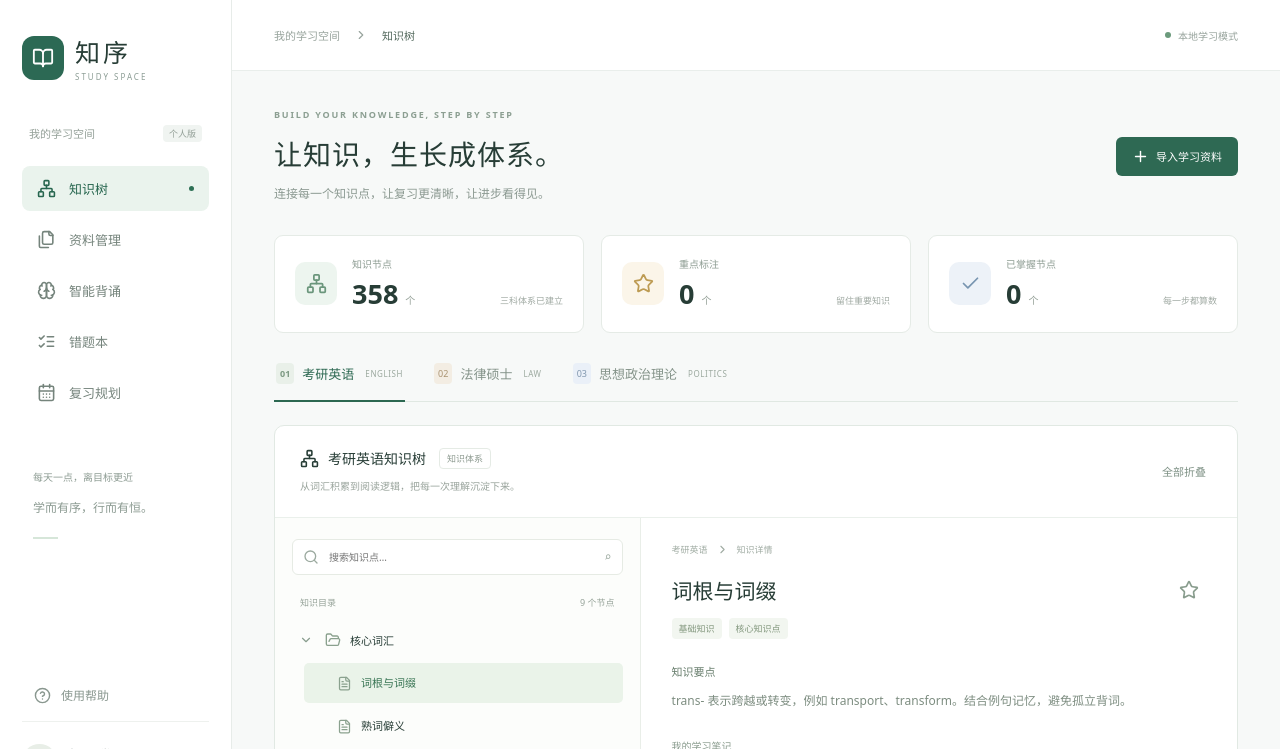
学习空间 › 背诵后更新掌握状态并生成复习路线
Click the button "智能背诵" at (116, 290), box [22, 268, 209, 313]
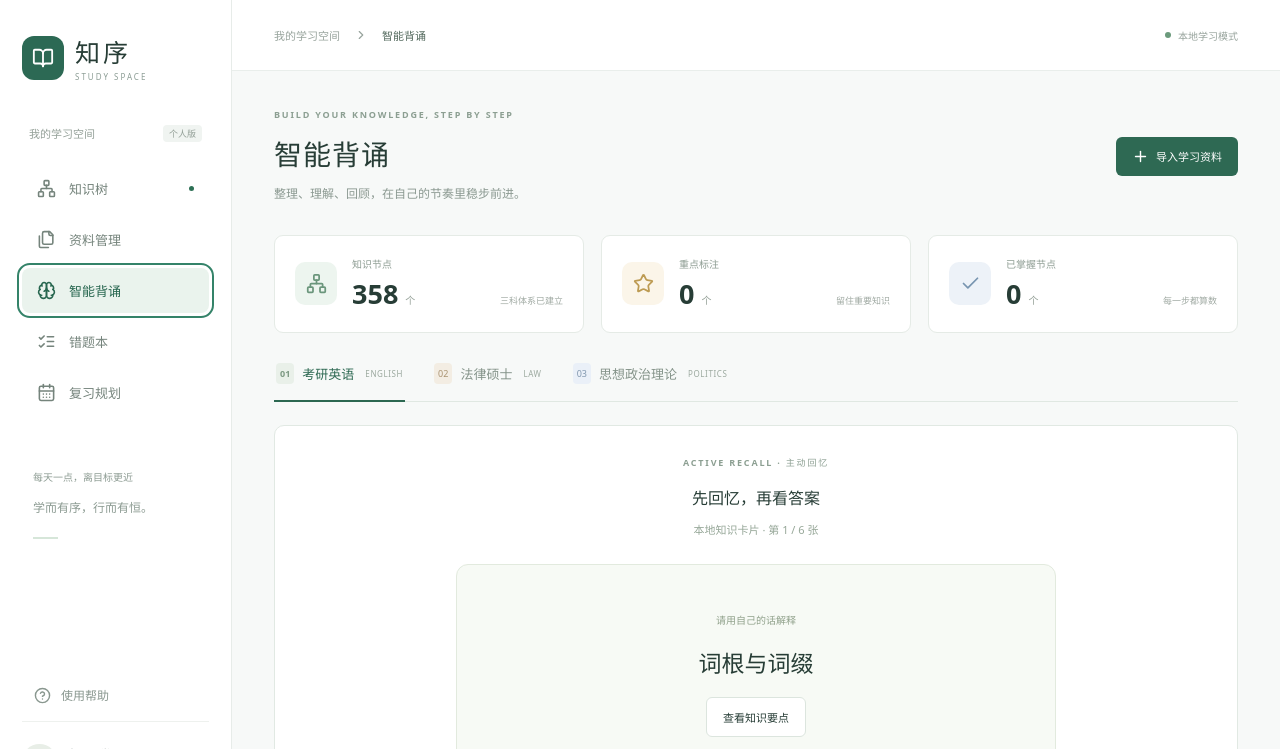
Click the button "查看知识要点" at (756, 717), box [706, 697, 806, 737]
(page scrolled)
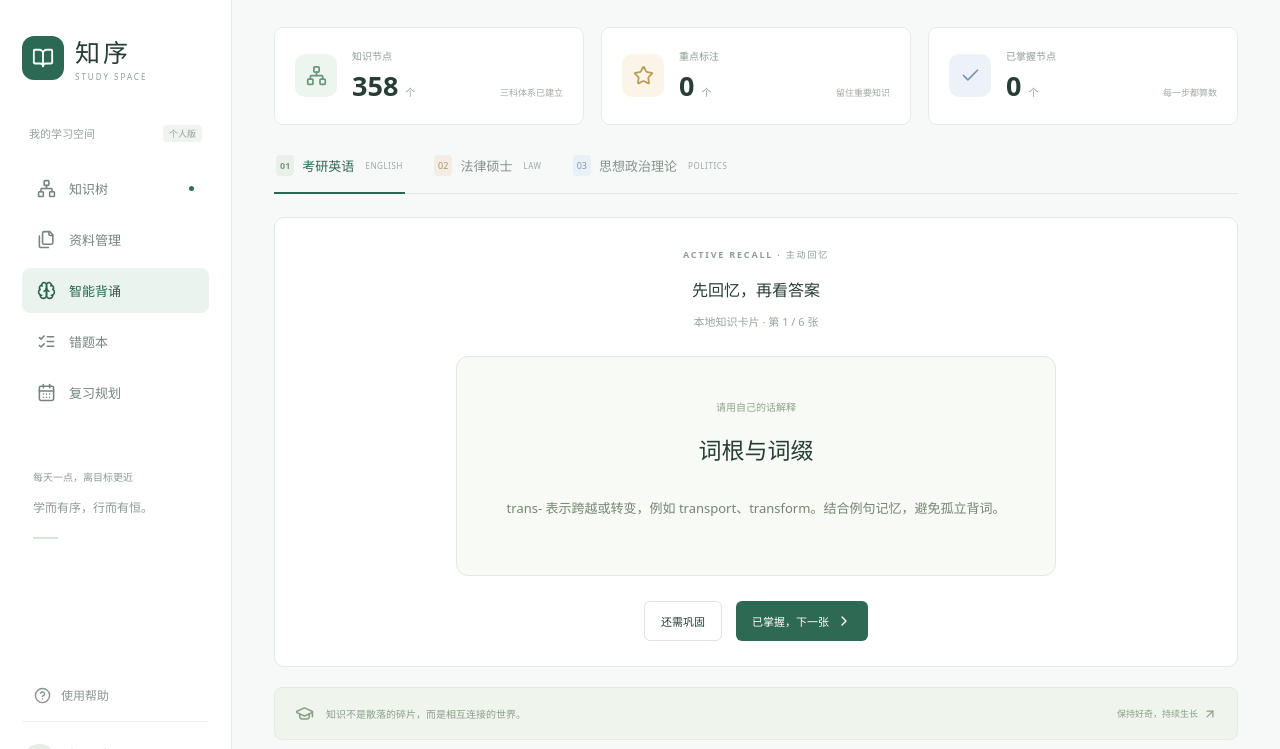
Click the button "已掌握，下一张" at (802, 621), box [736, 601, 868, 641]
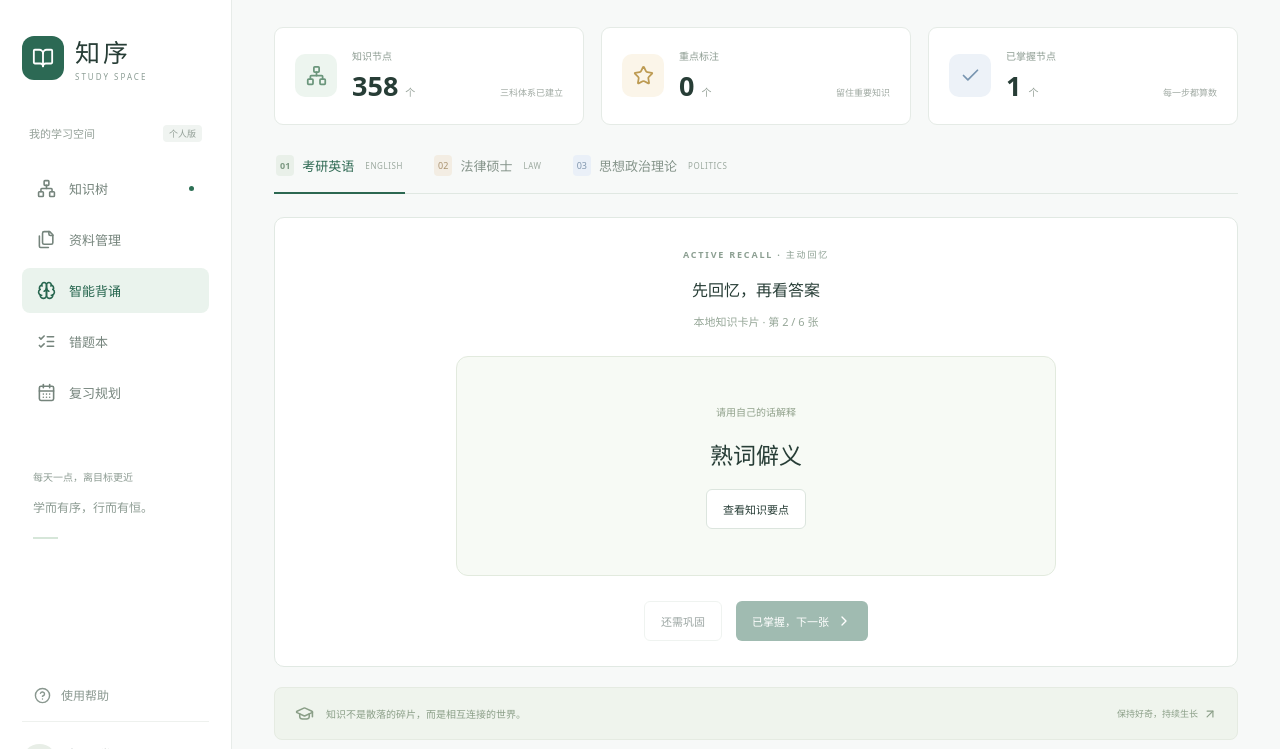
Click the button "复习规划" at (116, 392), box [22, 370, 209, 415]
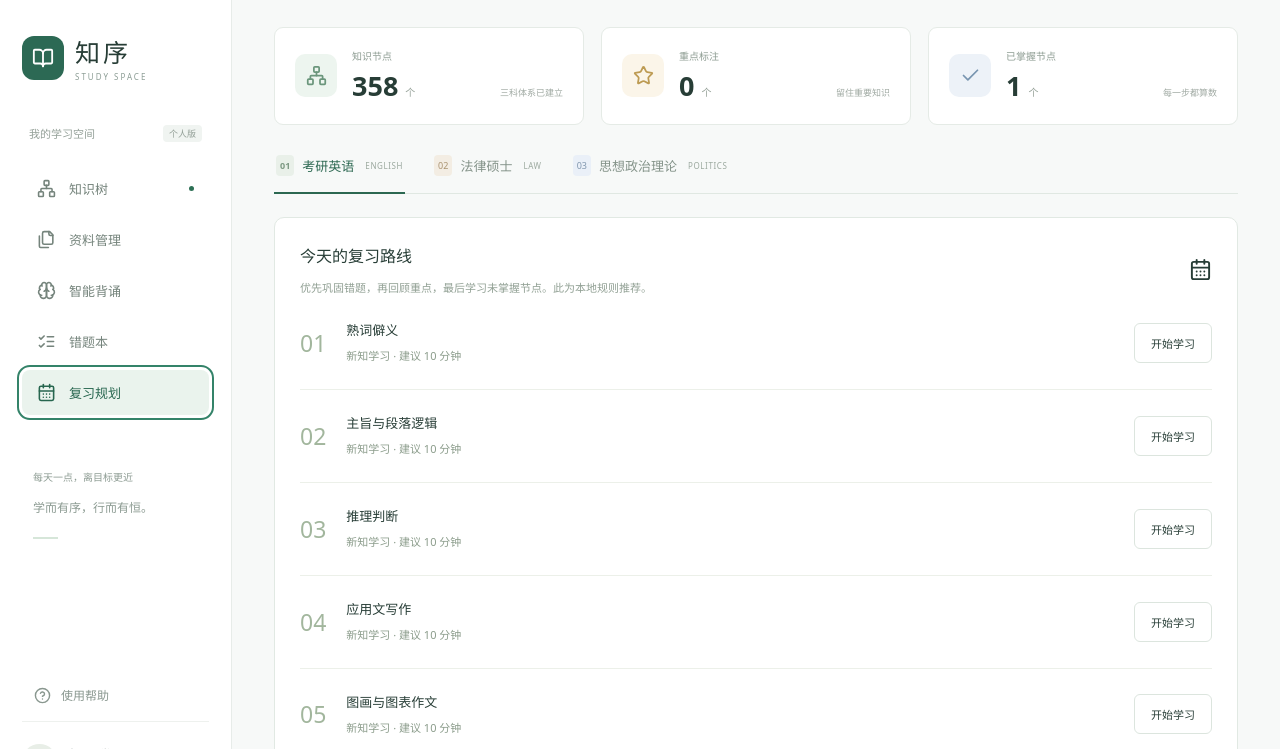
Expected: the heading "词根与词缀" is not shown
Click the button "开始学习" in the row of "熟词僻义" at (1173, 343), box [1134, 323, 1212, 363]
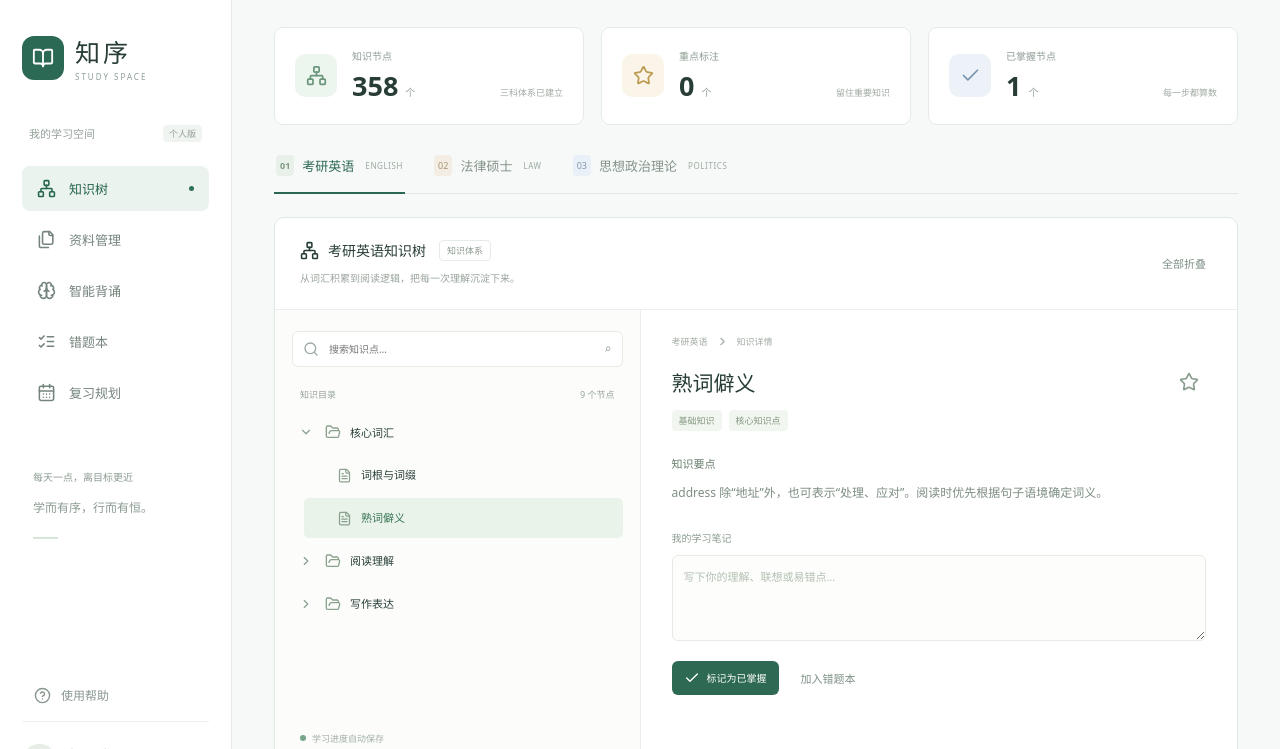
Now the heading "熟词僻义" is shown, box [672, 367, 756, 397]
